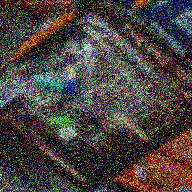러키펜정: (58, 127, 77, 141)
씨엠지세파클러캡슐: (65, 66, 79, 93)
에르도캡슐: (30, 73, 65, 94)
휴티렌정: (48, 115, 75, 128)
